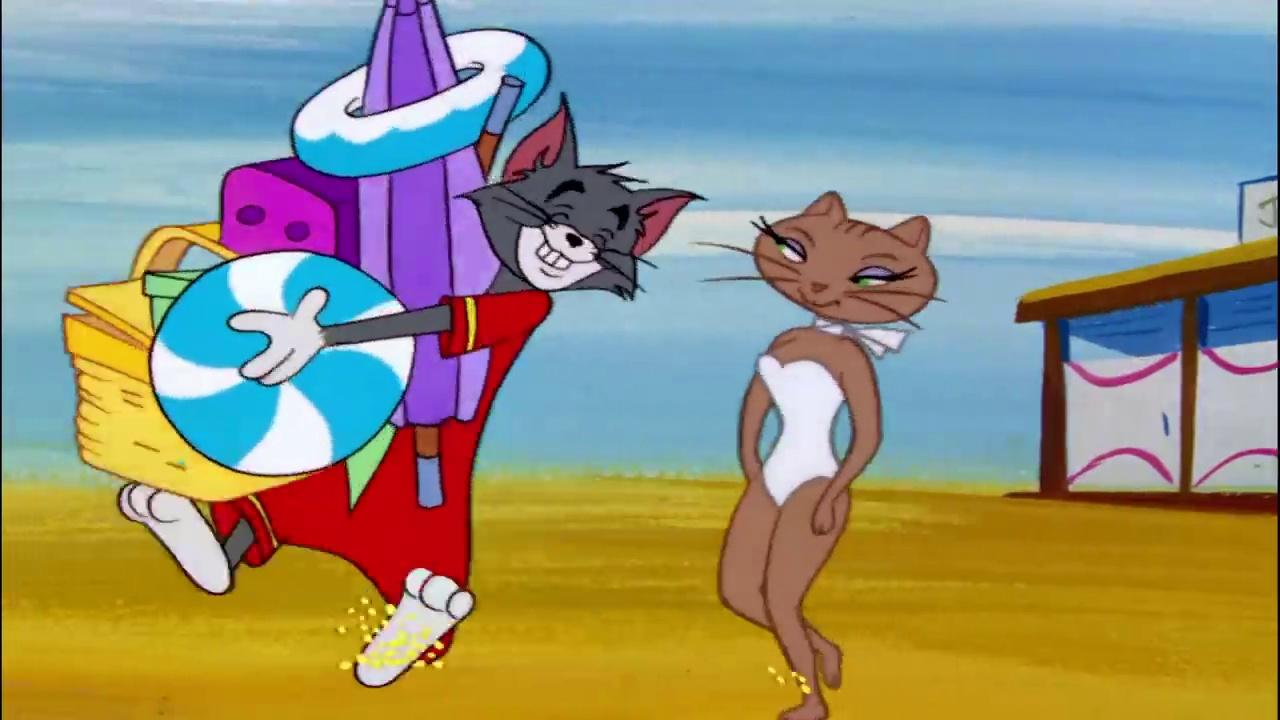Tom: (117, 87, 707, 689)
